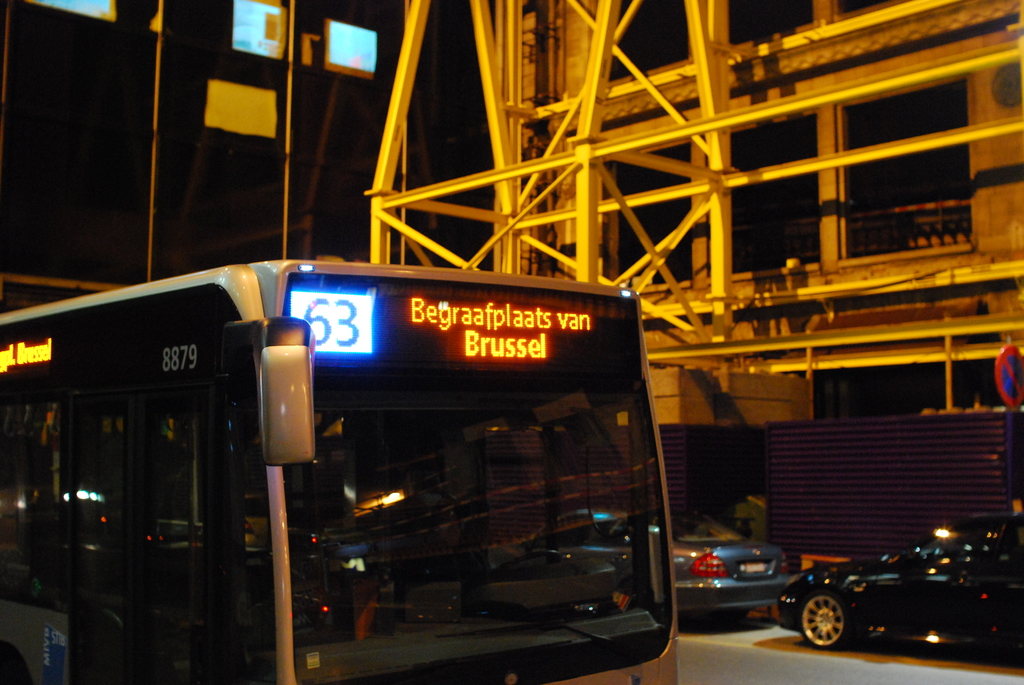Car: (776, 512, 1023, 651), (668, 514, 789, 615)
